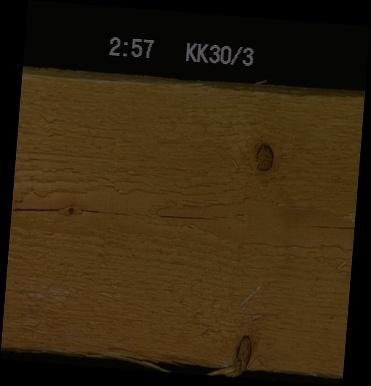dry_knot: (253, 140, 273, 173)
edge_knot: (233, 332, 253, 369)
split: (14, 198, 230, 216), (285, 215, 353, 232)
wave: (22, 70, 363, 97)
